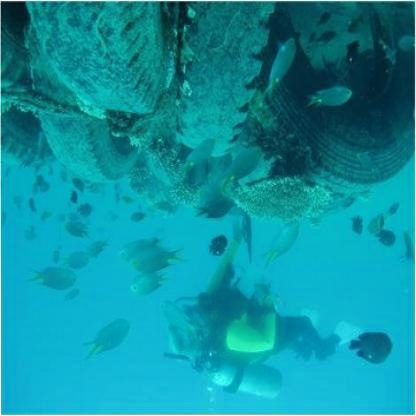tire: (256, 1, 416, 193), (22, 1, 172, 123), (171, 2, 259, 157), (30, 106, 145, 182), (1, 1, 41, 107), (1, 106, 49, 167)
